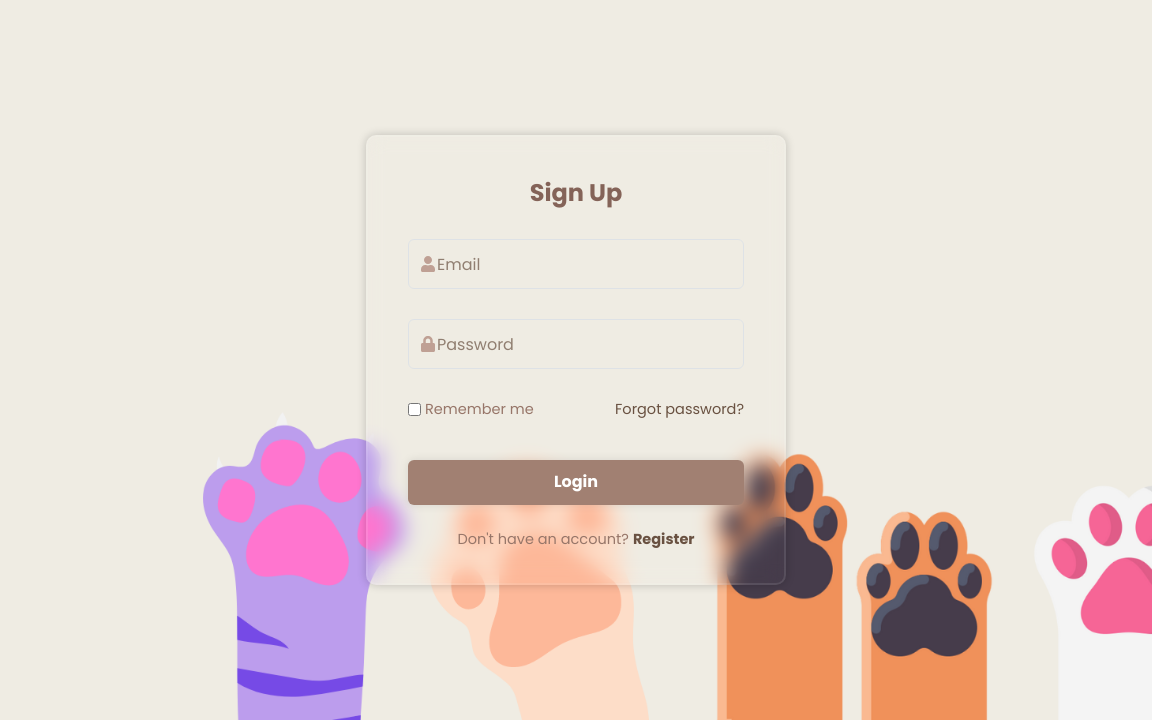
Scenario: Login Component › Should show email validation error
The image size is (1152, 720).
In the field with placeholder "Email": (576, 264) [408, 239, 744, 289], type "invalidemail"
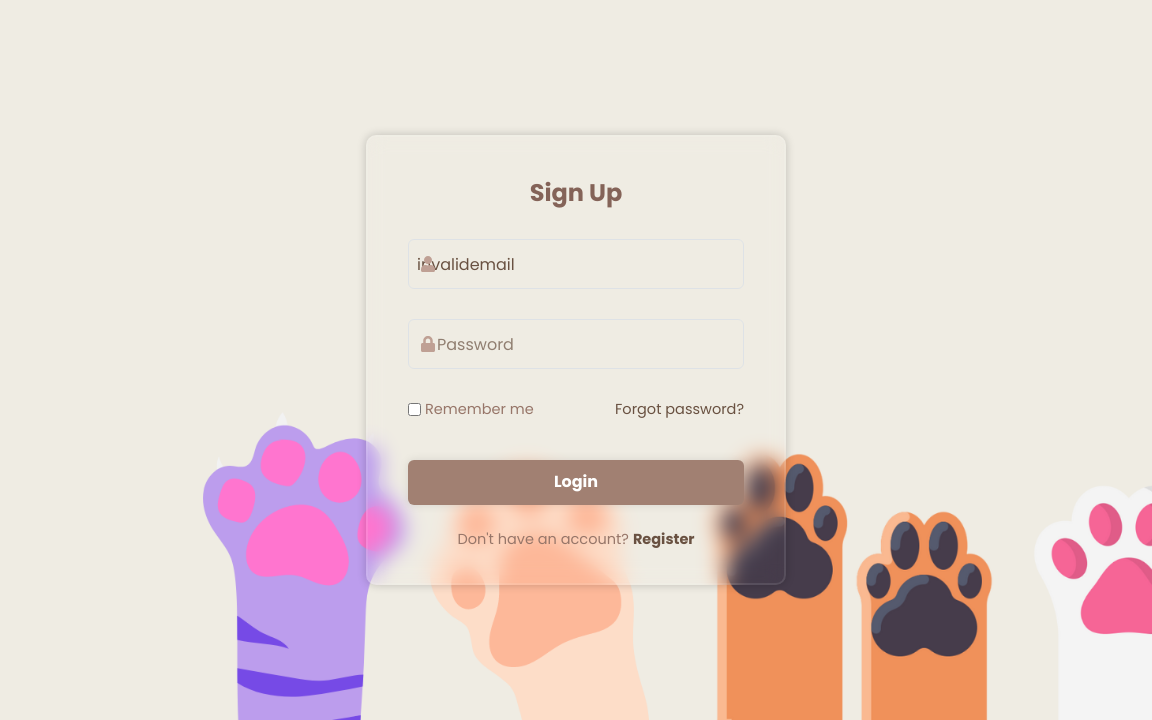
Click the button "Login": (576, 482) [408, 460, 744, 505]
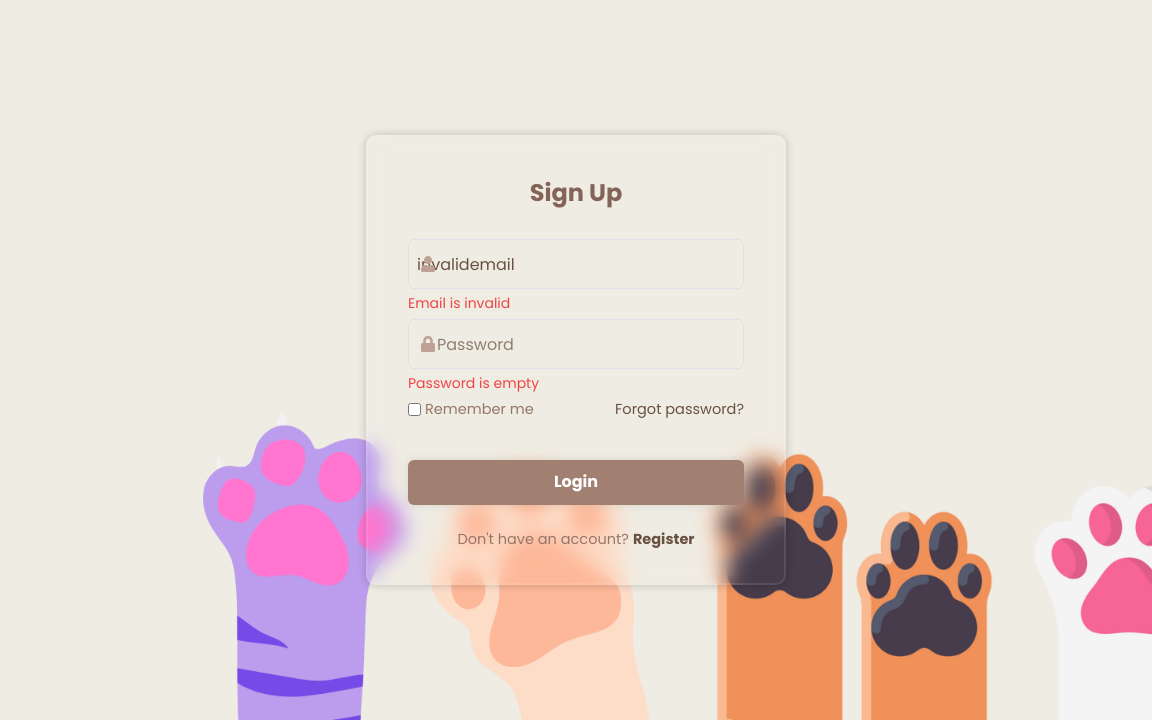
Expected: the text "Email is invalid" is shown, [408, 293, 510, 313]
